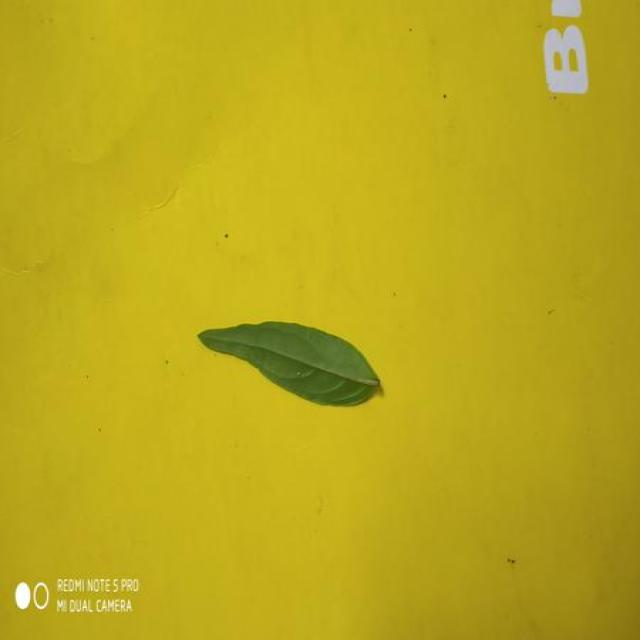Nelavembu: (198, 321, 382, 406)
